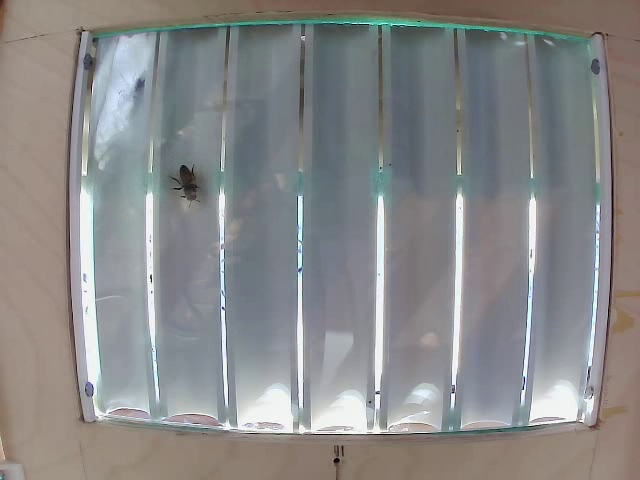bee: (169, 158, 224, 213)
